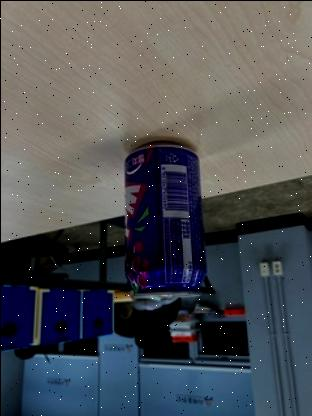Can: (120, 139, 208, 301)
